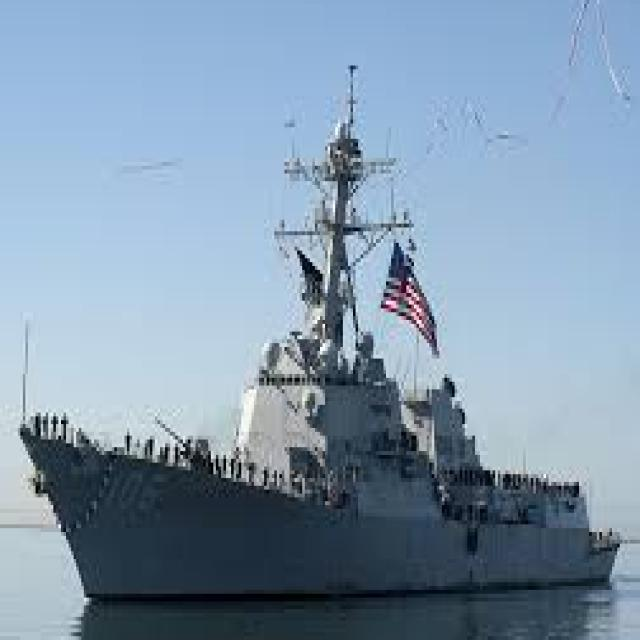navalvessels: (8, 53, 626, 598)
